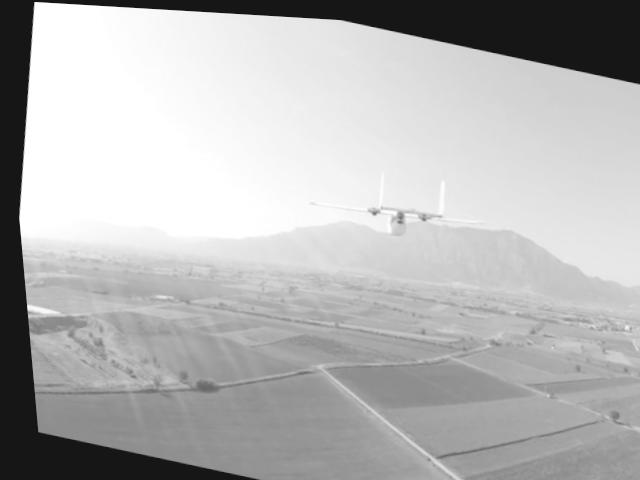hedef: (291, 139, 494, 261)
